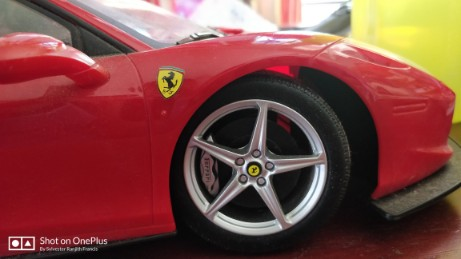unaligned_wheel: (172, 70, 351, 249)
